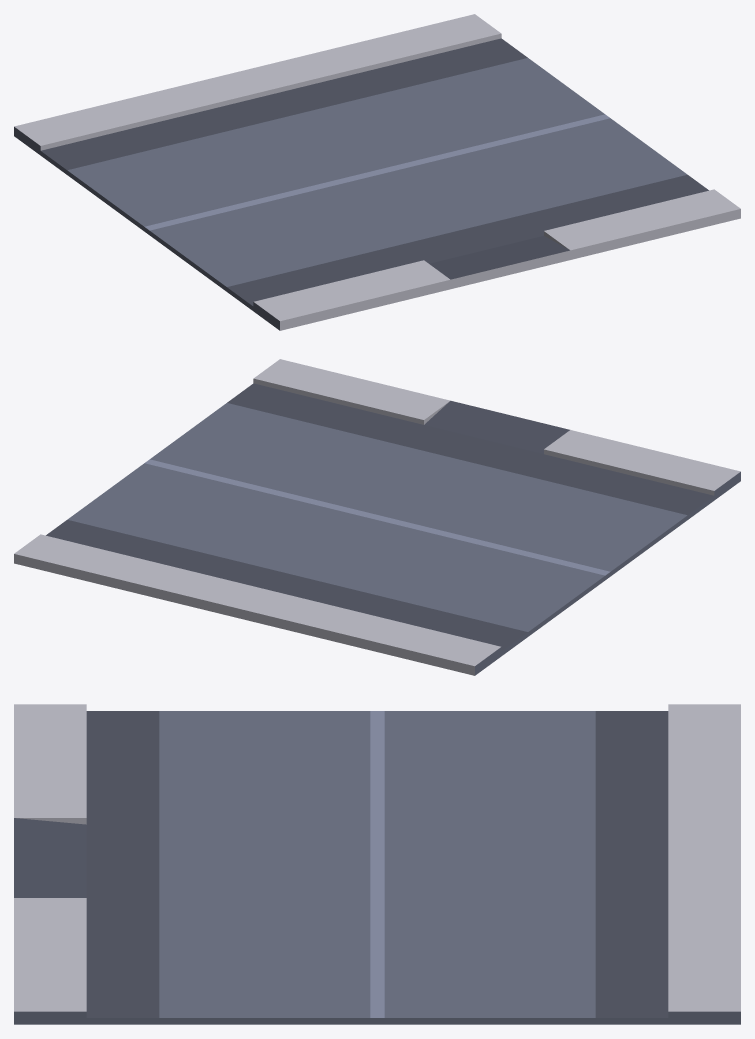
File: road_drivewaySingle.fbx
3 renders of one model, top to bottom at view 1: azimuth 30°, elevation 25°; view 2: azimuth 150°, elevation 25°; view 3: azimuth 270°, elevation 25°, orthographic. The views are drawn at different scales.
Parts seen in each view (by area): view 1: road_drivewaySingle; view 2: road_drivewaySingle; view 3: road_drivewaySingle.
Boxes of the visible parts, x1,y1,x2,y2 form: road_drivewaySingle: (14,14,740,330); road_drivewaySingle: (14,359,740,675); road_drivewaySingle: (14,704,740,1024).
Bounding box in the file's own units: 10 × 0.2 × 10.
